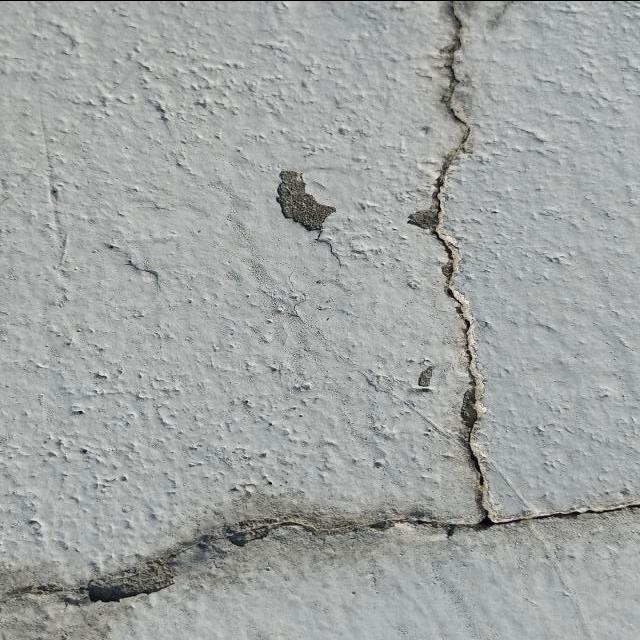SurfaceCrack: (0, 446, 639, 638), (388, 1, 526, 565)
